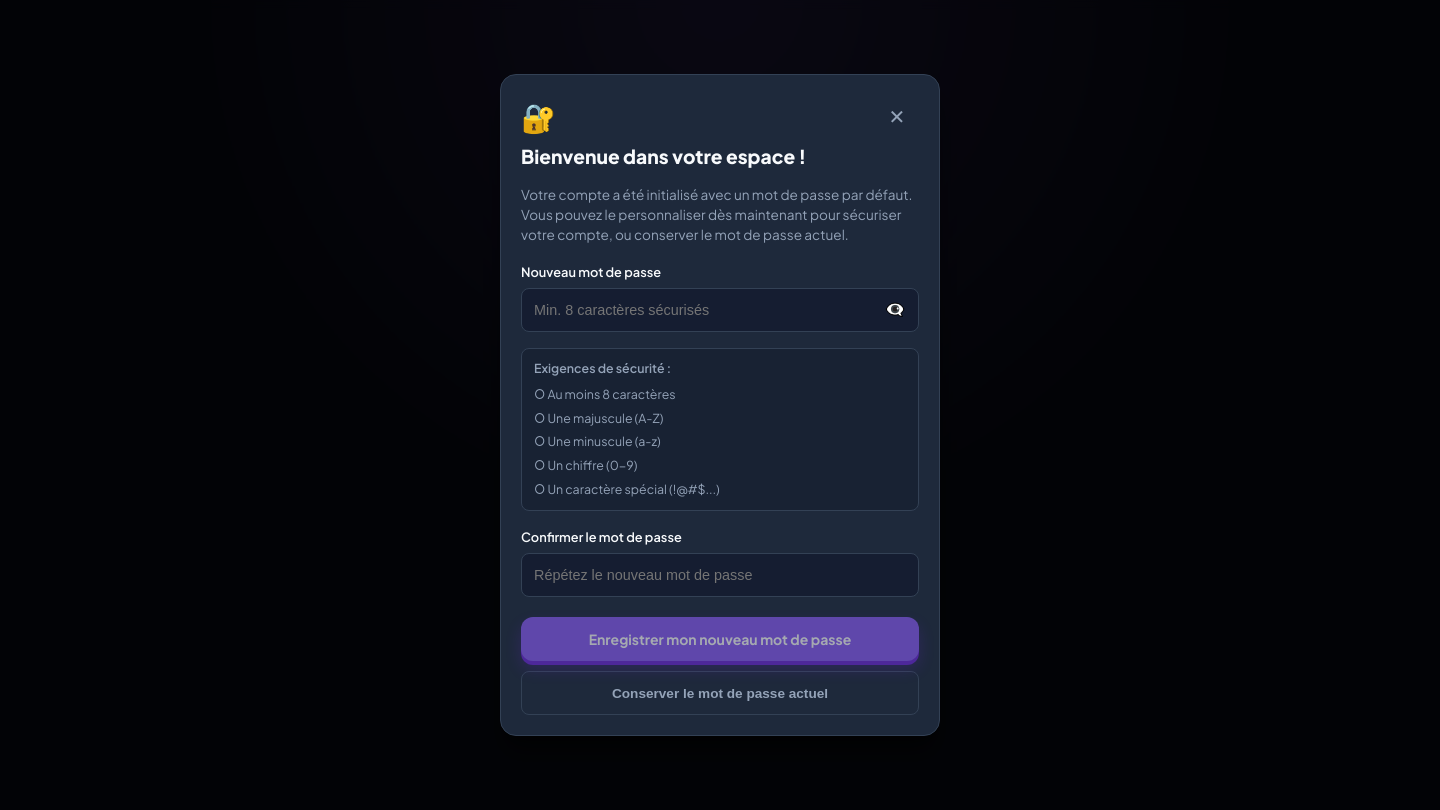
Test: FirstLoginPasswordModal › validates password requirements and enables submit when criteria match
# Weak password
Type "short" into the password field labelled "Nouveau mot de passe" at (720,310), box left=521, top=288, right=919, bottom=332
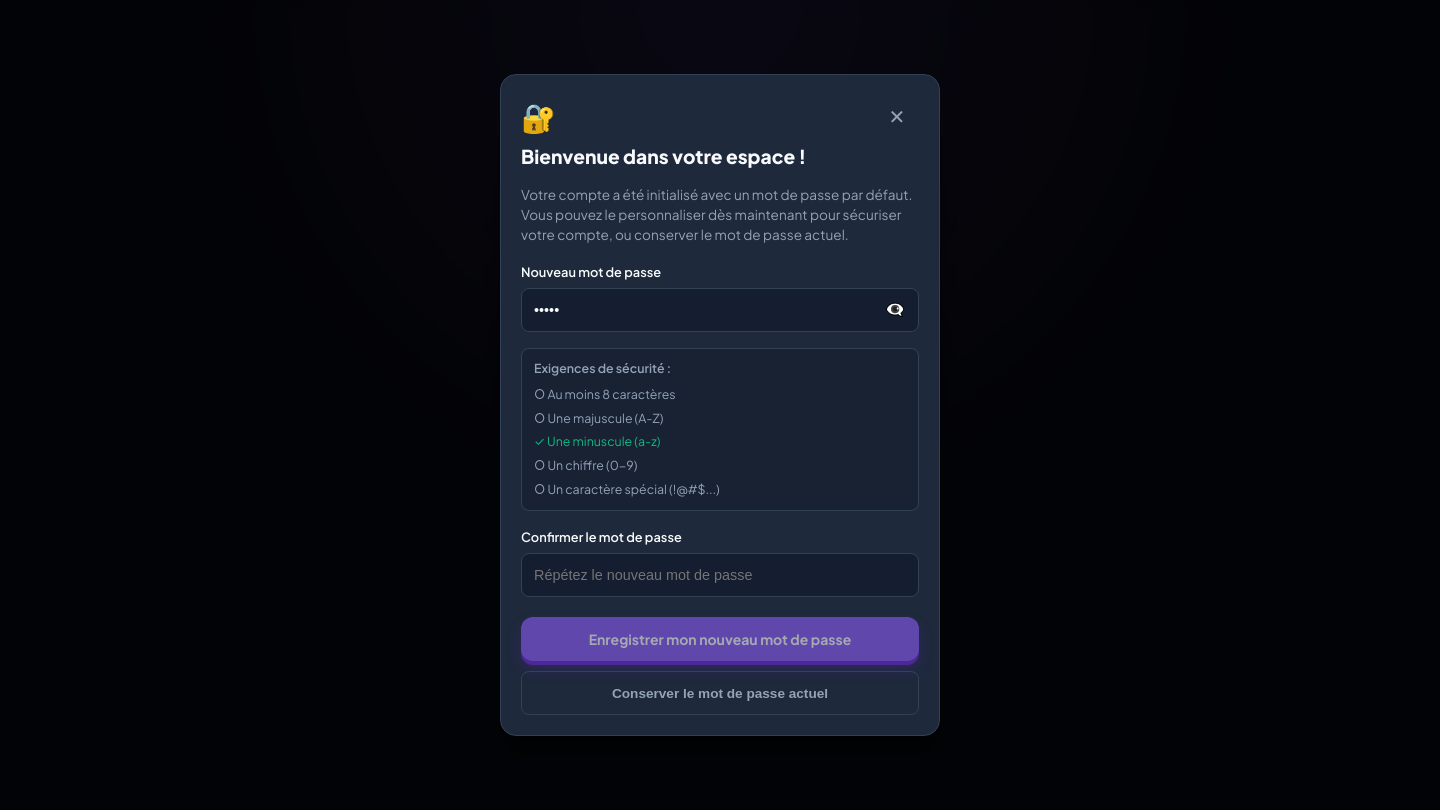
Type "short" into the password field labelled "Confirmer le mot de passe" at (720,575), box left=521, top=553, right=919, bottom=597
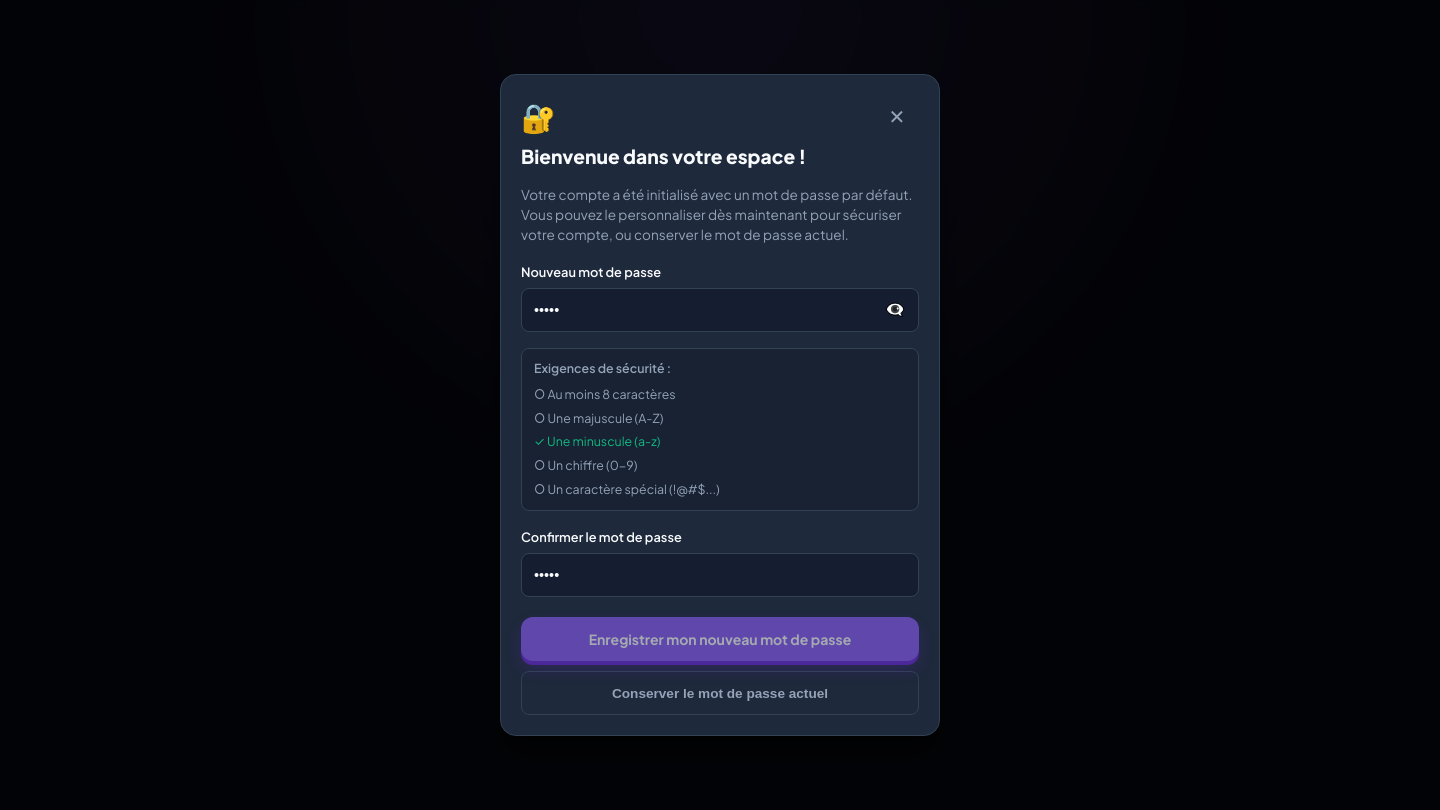
expect the button "Enregistrer mon nouveau mot de passe" is disabled: met, box left=521, top=617, right=919, bottom=661
# Valid strong password but mismatch
Type "Francais2026!" into the password field labelled "Nouveau mot de passe" at (720,310), box left=521, top=288, right=919, bottom=332
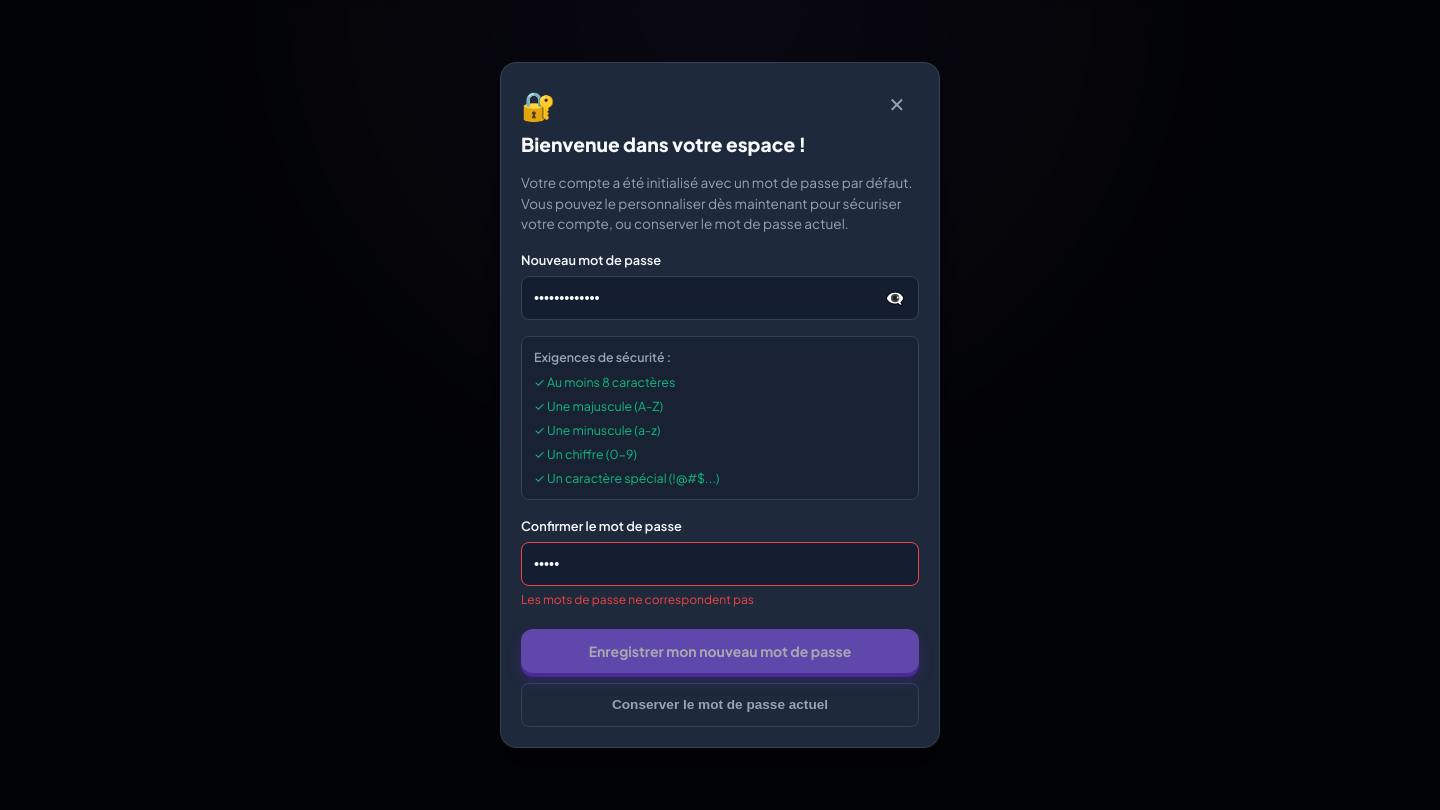
Type "Francais2026?" into the password field labelled "Confirmer le mot de passe" at (720,564), box left=521, top=542, right=919, bottom=586
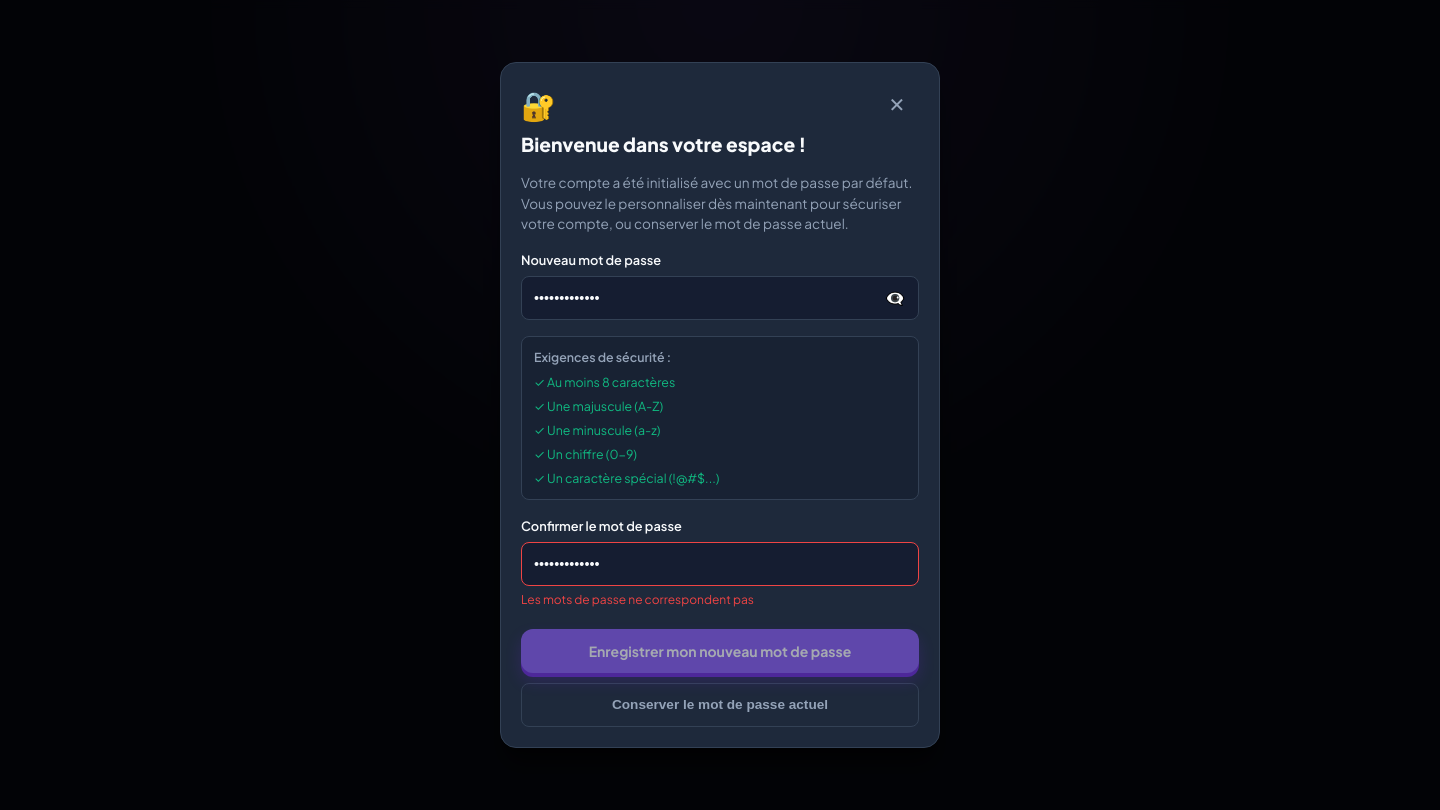
expect the button "Enregistrer mon nouveau mot de passe" is disabled: met, box left=521, top=629, right=919, bottom=673
expect the text "Les mots de passe ne correspondent pas" is shown: met, box left=521, top=592, right=754, bottom=607
# Matching valid password
Type "Francais2026!" into the password field labelled "Confirmer le mot de passe" at (720,564), box left=521, top=542, right=919, bottom=586
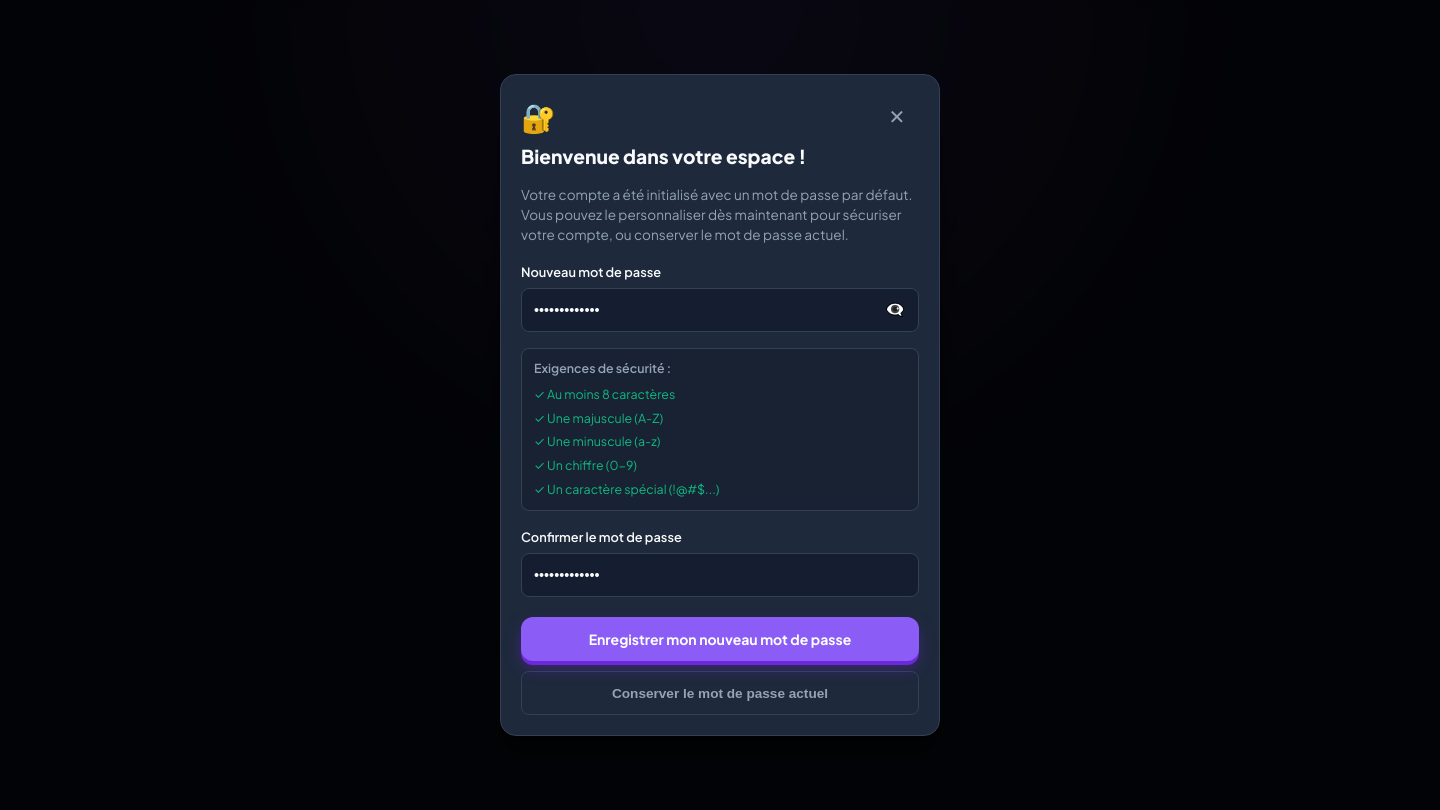
expect the button "Enregistrer mon nouveau mot de passe" is enabled: met
Click the button "Enregistrer mon nouveau mot de passe" at (720,639), box left=521, top=617, right=919, bottom=661
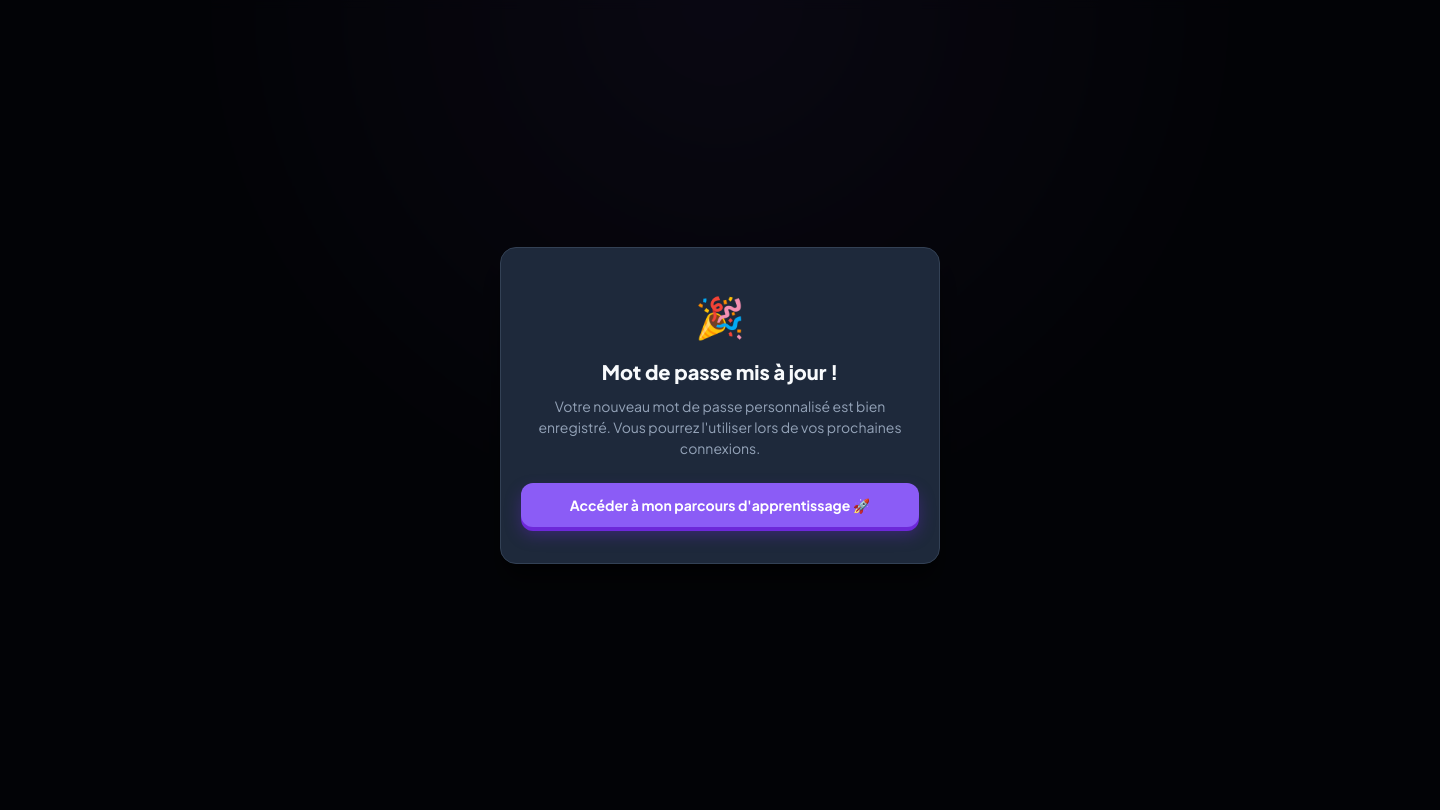
expect the heading "Mot de passe mis à jour !" is shown: met, box left=602, top=358, right=838, bottom=384
